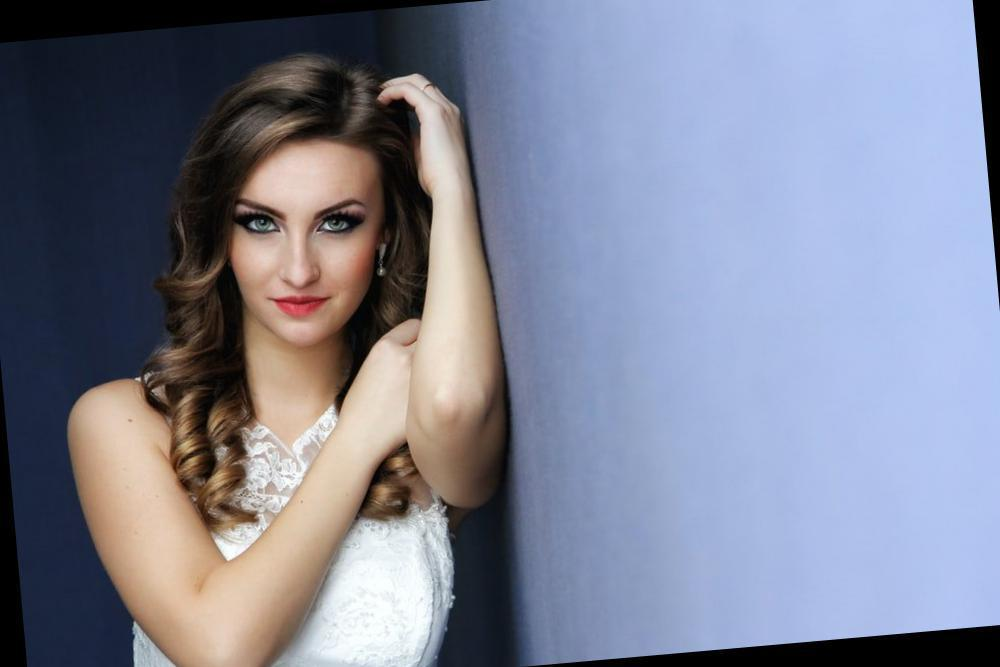Sober: (235, 146, 375, 326)
